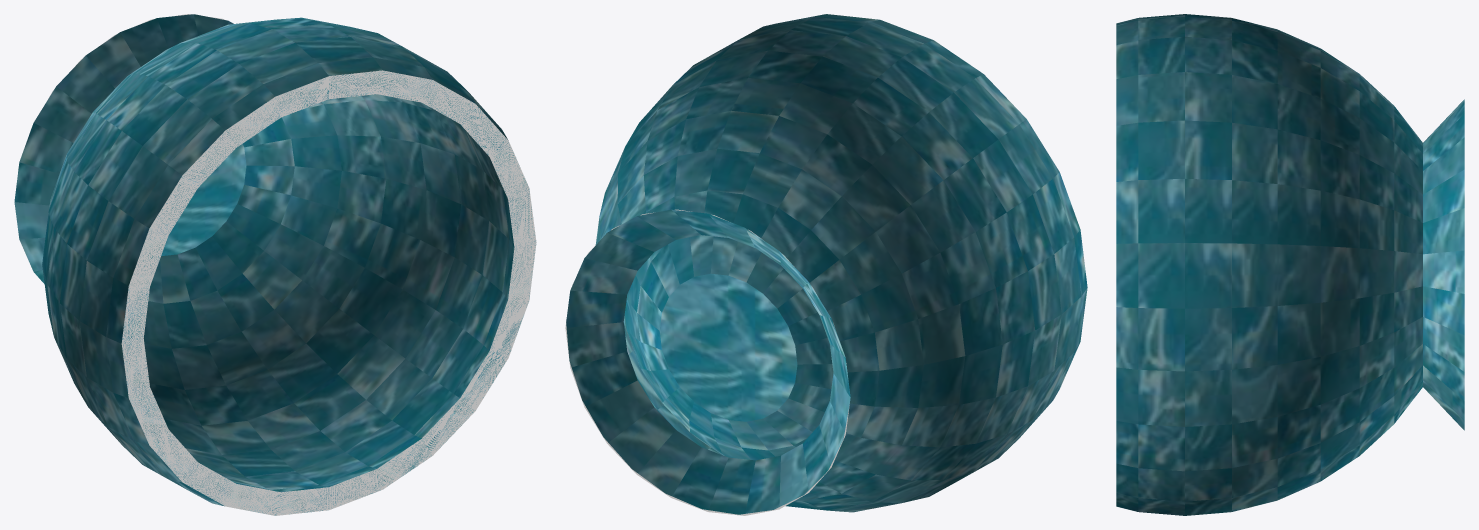
File: model_scale.obj
The picture shows the model from 3 angles, left to right: view 1: azimuth 30°, elevation 25°; view 2: azimuth 150°, elevation 25°; view 3: azimuth 270°, elevation 25°; orthographic projection.
Visible parts, largest first — view 1: mesh1_mesh1-geometry; view 2: mesh1_mesh1-geometry; view 3: mesh1_mesh1-geometry.
Boxes of the visible parts, bbox=[...] form: mesh1_mesh1-geometry: bbox=[14, 14, 536, 515]; mesh1_mesh1-geometry: bbox=[565, 14, 1087, 515]; mesh1_mesh1-geometry: bbox=[1116, 14, 1464, 515].
Bounding box in the file's own units: 0.1299 × 0.1299 × 0.0898.
